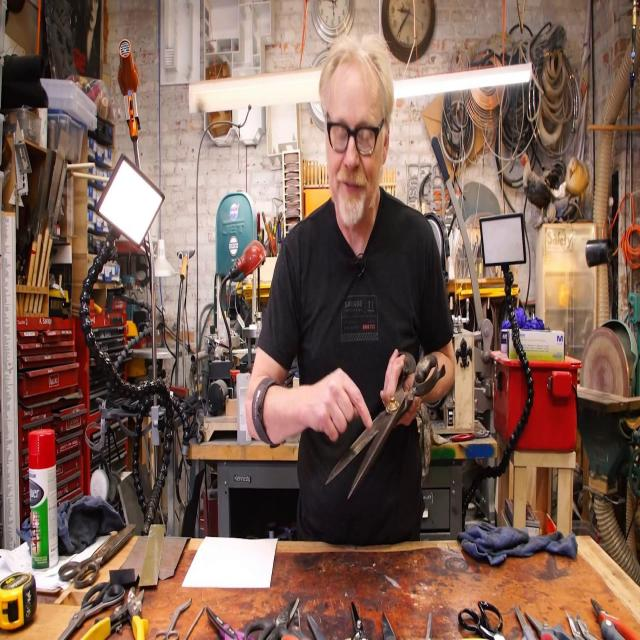scissor: (327, 350, 440, 500), (59, 524, 136, 586), (59, 583, 125, 640), (81, 588, 148, 640), (245, 598, 300, 640), (155, 598, 192, 640)
